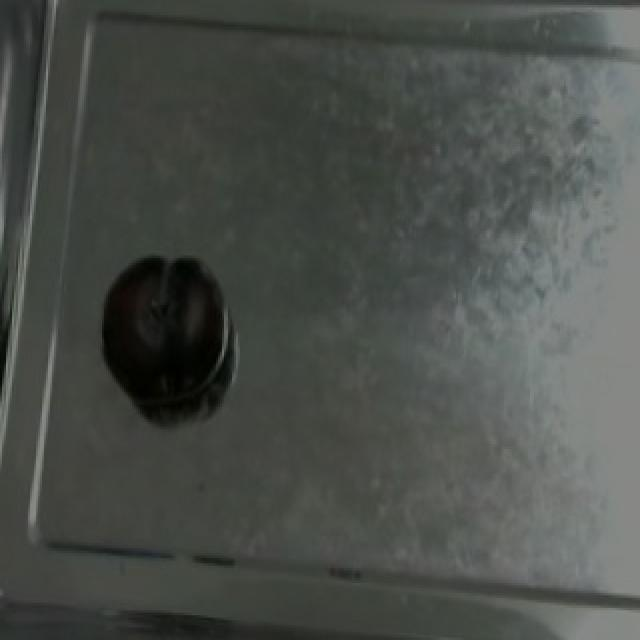Fruit: (96, 246, 232, 414)
